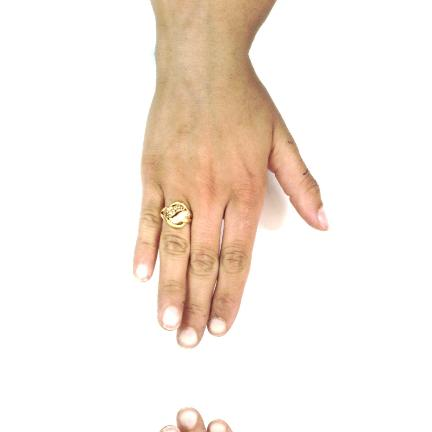Nail: (161, 305, 181, 331), (177, 327, 198, 349), (177, 407, 198, 429), (208, 318, 227, 337), (134, 264, 152, 282), (317, 206, 330, 230), (208, 419, 227, 432), (161, 425, 180, 432)
